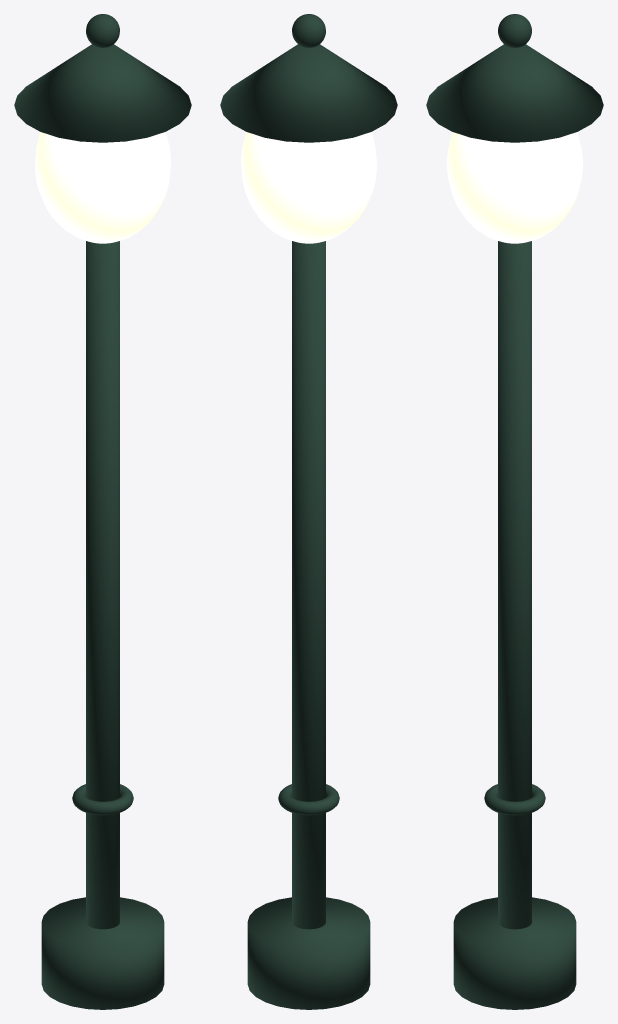
File: lamp.glb
3 renders of one model, left to right at view 1: azimuth 30°, elevation 25°; view 2: azimuth 150°, elevation 25°; view 3: azimuth 270°, elevation 25°, orthographic.
Visible parts, largest first — view 1: lamp; view 2: lamp; view 3: lamp.
Part boxes in pixels (x1,y1,x2,y2): lamp: [14, 14, 191, 1009]; lamp: [220, 14, 397, 1009]; lamp: [426, 14, 603, 1009].
Bounding box in the file's own units: 0.52 × 3.13 × 0.52.
